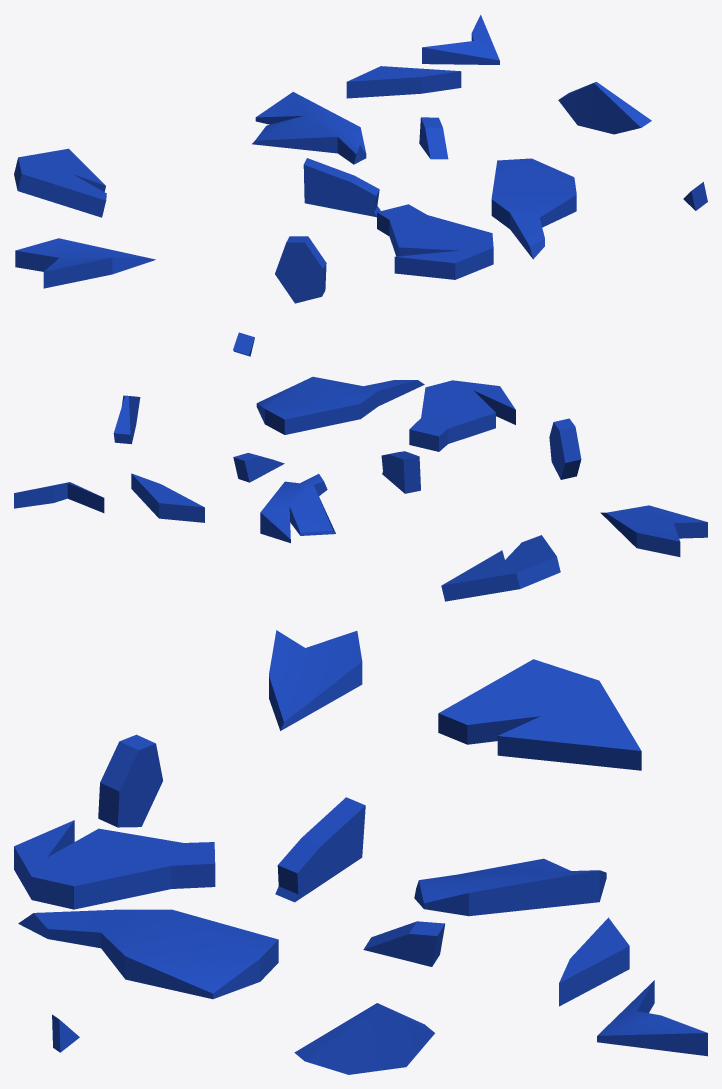
The model's file is Framentos_Rotos.fbx.
The picture shows the model from 3 angles, top to bottom: view 1: azimuth 30°, elevation 25°; view 2: azimuth 150°, elevation 25°; view 3: azimuth 270°, elevation 25°; orthographic projection. The views are drawn at different scales.
Visible parts, largest first — view 1: Frag2, Frag3, Frag9, Frag8, Framentos_Rotos, Frag6, Frag10, Frag5, Frag1, Frag12, Frag7; view 2: Frag3, Frag2, Frag8, Frag9, Framentos_Rotos, Frag10, Frag12, Frag1, Frag6, Frag7, Frag5; view 3: Frag8, Frag3, Frag2, Frag9, Framentos_Rotos, Frag5, Frag6, Frag1, Frag12, Frag10, Frag7.
Part boxes in pixels (x1,y1,x2,y2): Frag2: [377, 204, 493, 279]; Frag3: [491, 158, 576, 259]; Frag9: [252, 92, 366, 164]; Frag8: [14, 148, 106, 217]; Framentos_Rotos: [15, 238, 155, 288]; Frag6: [303, 158, 380, 217]; Frag10: [346, 66, 461, 98]; Frag5: [558, 82, 651, 134]; Frag1: [275, 236, 326, 303]; Frag12: [422, 15, 499, 64]; Frag7: [419, 117, 448, 159]; Frag3: [256, 376, 424, 434]; Frag2: [409, 380, 515, 451]; Frag8: [441, 535, 560, 601]; Frag9: [260, 474, 335, 543]; Framentos_Rotos: [600, 505, 707, 556]; Frag10: [131, 473, 204, 522]; Frag12: [14, 482, 104, 512]; Frag1: [549, 418, 581, 479]; Frag6: [381, 451, 420, 493]; Frag7: [233, 453, 284, 482]; Frag5: [113, 395, 140, 444]; Frag8: [438, 659, 641, 770]; Frag3: [18, 909, 278, 999]; Frag2: [14, 820, 215, 909]; Frag9: [414, 858, 606, 916]; Framentos_Rotos: [269, 630, 362, 730]; Frag5: [294, 1003, 434, 1074]; Frag6: [275, 797, 365, 902]; Frag1: [98, 734, 162, 827]; Frag12: [597, 980, 707, 1056]; Frag10: [559, 917, 629, 1006]; Frag7: [363, 921, 445, 966].
Bounding box in the file's own units: 1.94 × 0.1819 × 1.35.
